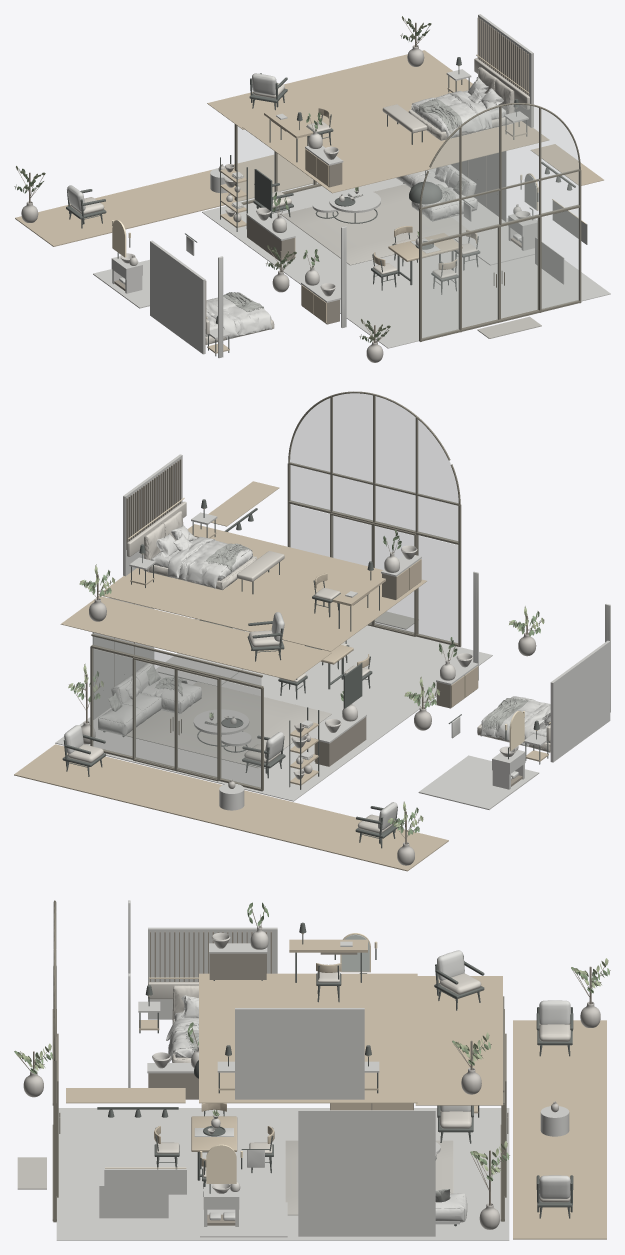
Rendered from chalk.glb.
3 renders of one model, top to bottom at view 1: azimuth 30°, elevation 25°; view 2: azimuth 150°, elevation 25°; view 3: azimuth 270°, elevation 25°, orthographic. The views are drawn at different scales.
Parts seen in each view (by area): view 1: Entry | fitted finishes (×5), Living | fitted finishes (×5), Loft bedroom | fitted finishes (×3), Terrace | fitted finishes, Guest bedroom | fitted finishes (×3), Shelter of Sky bed · draped duvet and sculpted loose pillows (×2), Balcony | fitted finishes, Textured grey living rug, Main bathroom | fitted finishes (×2), Guest bathroom | fitted finishes (×2), Olive branches in an aged ceramic urn (×4), Soft sculpted linen sectional with loose cushions and draped (+9 smaller); view 2: Entry | fitted finishes (×6), Living | fitted finishes (×5), Loft bedroom | fitted finishes (×3), Terrace | fitted finishes, Balcony | fitted finishes, Guest bedroom | fitted finishes (×3), Shelter of Sky bed · draped duvet and sculpted loose pillows (×2), Textured grey living rug, Guest bathroom | fitted finishes (×2), Tailored linen lounge chair with exposed steel frame (×4), Olive branches in an aged ceramic urn (×5), Soft sculpted linen sectional with loose cushions and draped (+5 smaller); view 3: Living | fitted finishes (×3), Loft bedroom | fitted finishes (×3), Terrace | fitted finishes, Balcony | fitted finishes, Guest bedroom | fitted finishes (×3), Tailored linen lounge chair with exposed steel frame (×4), Main bathroom | fitted finishes (×2), Kitchen | fitted finishes (×2), Olive branches in an aged ceramic urn (×4), Entry | fitted finishes (×2), Shelter of Sky bed · draped duvet and sculpted loose pillows, Textured grey living rug (+8 smaller).
Boxes of the visible parts, left/top/right/bottom form: Entry | fitted finishes (×5): left=234, top=103, right=581, bottom=341; Living | fitted finishes (×5): left=202, top=151, right=610, bottom=348; Loft bedroom | fitted finishes (×3): left=242, top=14, right=603, bottom=193; Terrace | fitted finishes: left=15, top=154, right=316, bottom=246; Guest bedroom | fitted finishes (×3): left=150, top=226, right=346, bottom=357; Shelter of Sky bed · draped duvet and sculpted loose pillows (×2): left=205, top=67, right=514, bottom=344; Balcony | fitted finishes: left=207, top=50, right=452, bottom=129; Textured grey living rug: left=282, top=184, right=468, bottom=265; Main bathroom | fitted finishes (×2): left=454, top=173, right=538, bottom=265; Guest bathroom | fitted finishes (×2): left=93, top=220, right=149, bottom=308; Olive branches in an aged ceramic urn (×4): left=14, top=16, right=431, bottom=362; Soft sculpted linen sectional with loose cushions and draped: left=396, top=164, right=477, bottom=221; Entry | fitted finishes (×6): left=90, top=391, right=461, bottom=791; Living | fitted finishes (×5): left=55, top=597, right=492, bottom=801; Loft bedroom | fitted finishes (×3): left=98, top=454, right=426, bottom=651; Terrace | fitted finishes: left=14, top=744, right=448, bottom=871; Balcony | fitted finishes: left=60, top=596, right=331, bottom=681; Guest bedroom | fitted finishes (×3): left=436, top=571, right=610, bottom=762; Shelter of Sky bed · draped duvet and sculpted loose pillows (×2): left=143, top=510, right=550, bottom=752; Textured grey living rug: left=125, top=682, right=331, bottom=767; Guest bathroom | fitted finishes (×2): left=418, top=711, right=539, bottom=809; Tailored linen lounge chair with exposed steel frame (×4): left=62, top=612, right=398, bottom=848; Olive branches in an aged ceramic urn (×5): left=68, top=564, right=544, bottom=865; Soft sculpted linen sectional with loose cushions and draped: left=98, top=663, right=201, bottom=736; Living | fitted finishes (×3): left=56, top=1103, right=509, bottom=1240; Loft bedroom | fitted finishes (×3): left=66, top=902, right=417, bottom=1103; Terrace | fitted finishes: left=513, top=1020, right=606, bottom=1239; Balcony | fitted finishes: left=415, top=976, right=502, bottom=1105; Guest bedroom | fitted finishes (×3): left=128, top=900, right=277, bottom=1099; Tailored linen lounge chair with exposed steel frame (×4): left=434, top=950, right=573, bottom=1218; Main bathroom | fitted finishes (×2): left=200, top=1144, right=287, bottom=1237; Kitchen | fitted finishes (×2): left=99, top=1167, right=186, bottom=1218; Olive branches in an aged ceramic urn (×4): left=14, top=958, right=610, bottom=1229; Entry | fitted finishes (×2): left=52, top=900, right=504, bottom=1222; Shelter of Sky bed · draped duvet and sculpted loose pillows: left=166, top=985, right=198, bottom=1062; Textured grey living rug: left=285, top=1140, right=453, bottom=1215.
Bounding box in the file's own units: 10.37 × 5.73 × 11.74.
